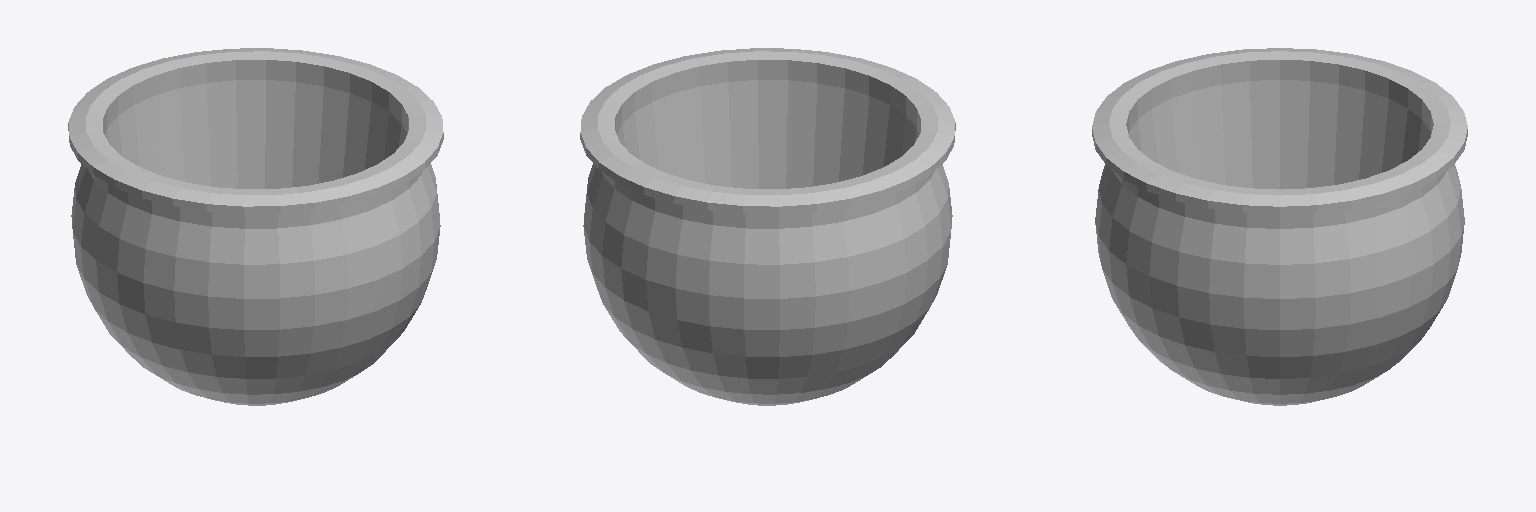
The model's file is Cauldron.obj.
The picture shows the model from 3 angles: view 1: azimuth 30°, elevation 25°; view 2: azimuth 150°, elevation 25°; view 3: azimuth 270°, elevation 25°; orthographic projection.
Parts seen in each view (by area): view 1: Сфера; view 2: Сфера; view 3: Сфера.
Boxes of the visible parts, box(x1,y1,x2,y2) form: Сфера: box(68, 48, 443, 405); Сфера: box(580, 48, 955, 405); Сфера: box(1092, 48, 1467, 405).
Size of the model in its own units: 2.03 by 1.58 by 2.03.